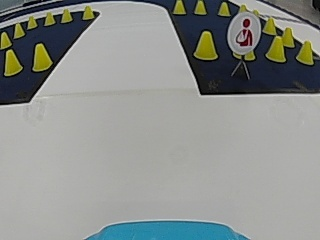cone: (196, 30, 219, 62), (31, 44, 51, 72), (4, 49, 21, 77), (267, 38, 285, 64), (299, 39, 314, 66), (281, 25, 295, 48), (264, 15, 277, 35), (0, 29, 13, 46), (194, 0, 208, 15), (84, 5, 96, 21), (14, 23, 25, 39), (62, 8, 73, 23), (45, 9, 55, 25), (174, 1, 185, 15), (219, 3, 228, 16)
patient: (232, 13, 259, 49)
